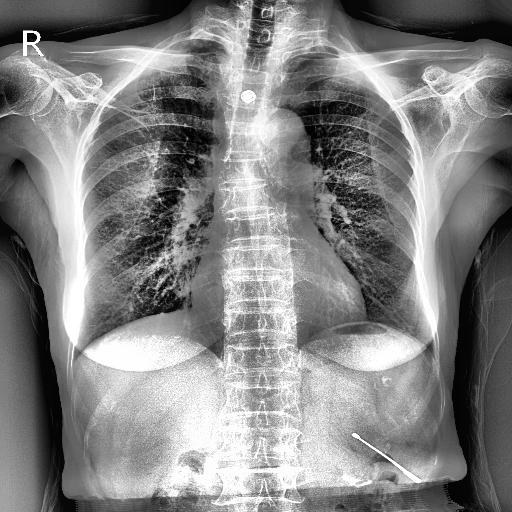0- Aortic enlargement: (249, 106, 312, 169), (252, 104, 312, 154), (260, 108, 304, 150)
11- Pleural thickening: (283, 51, 342, 63), (164, 40, 220, 52)
